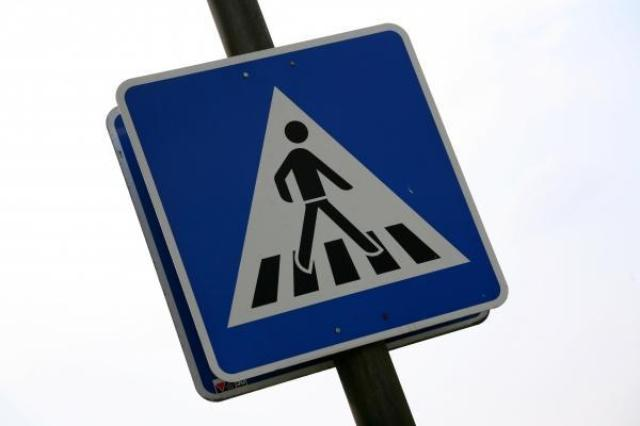crosswalk-sign: (106, 23, 510, 403)
